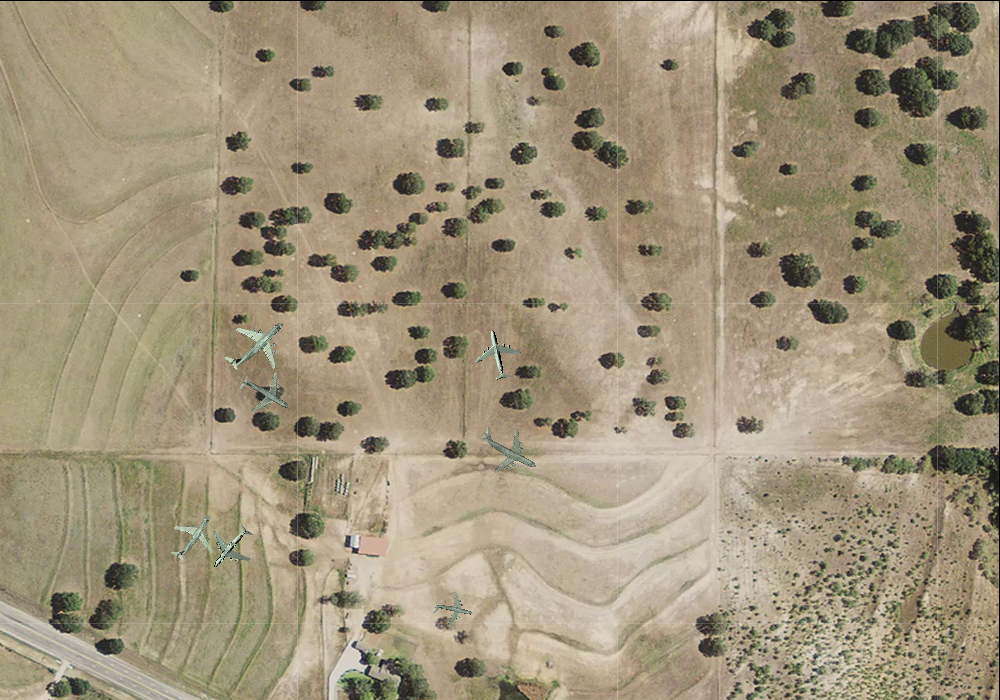plane: (209, 298, 302, 390), (468, 410, 550, 489), (156, 500, 229, 573), (228, 358, 301, 430), (196, 512, 265, 582), (469, 325, 526, 384), (429, 587, 476, 633)
